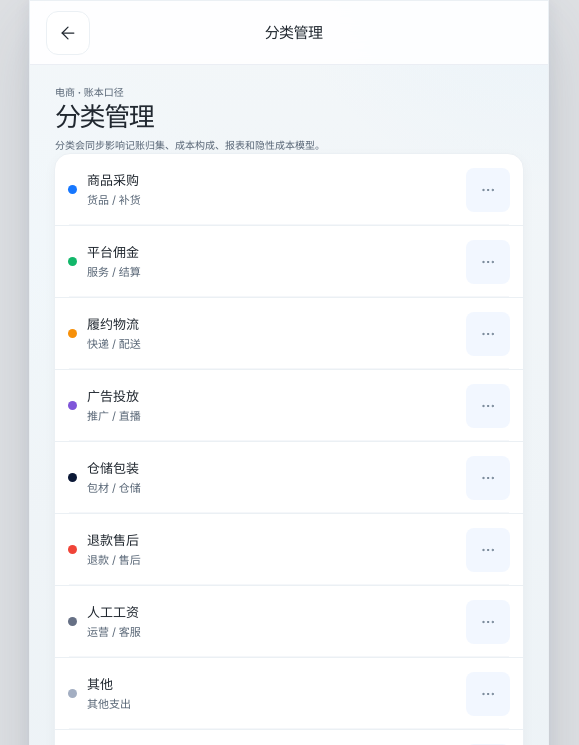
Test: C5 分类行收敛：整行进入编辑，删除保留确认与占用校验 › 整行点击进入编辑表单（主进入点）
The width and height of the screenshot is (579, 745).
Check: the heading "分类管理" is shown, box left=55, top=101, right=153, bottom=132
Click the button with aria-label "编辑分类 商品采购". click: point(113, 180)
box: left=55, top=154, right=523, bottom=226
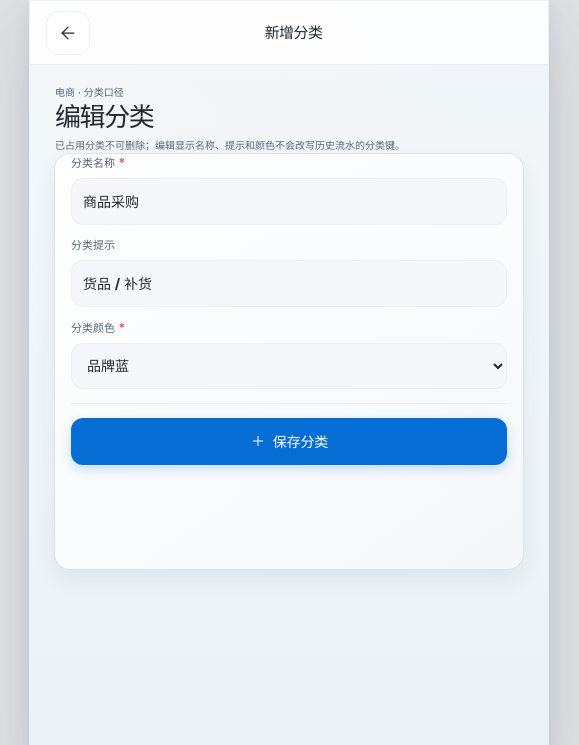
Check: the heading "编辑分类" is shown, box left=55, top=101, right=153, bottom=132
Check: the field labelled "分类名称" holds "商品采购", box left=71, top=178, right=507, bottom=225
